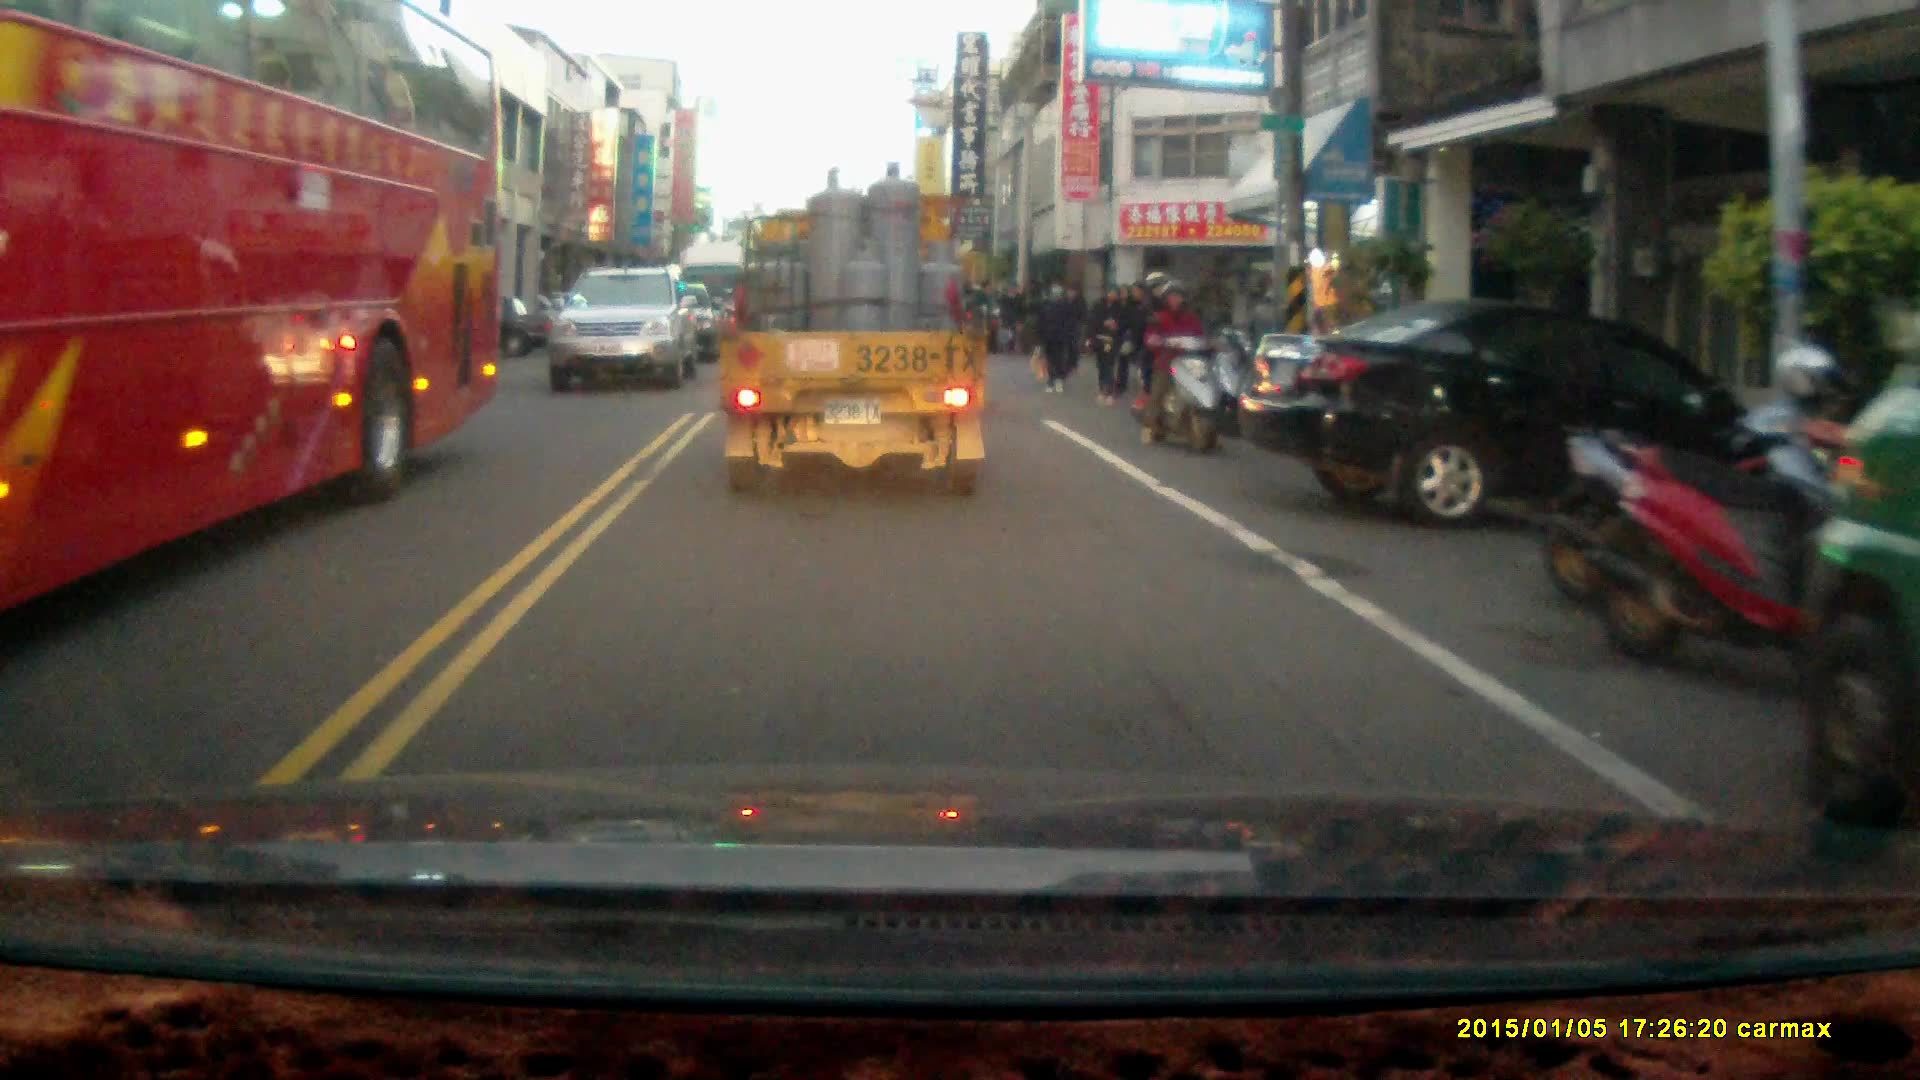pedestrian: (1032, 278, 1075, 395), (1090, 283, 1128, 410), (997, 278, 1024, 356)
rider: (1132, 269, 1217, 451)
vehicle: (1, 7, 511, 621), (1236, 302, 1793, 527), (718, 162, 995, 500), (1798, 368, 1920, 834), (549, 268, 697, 397)
